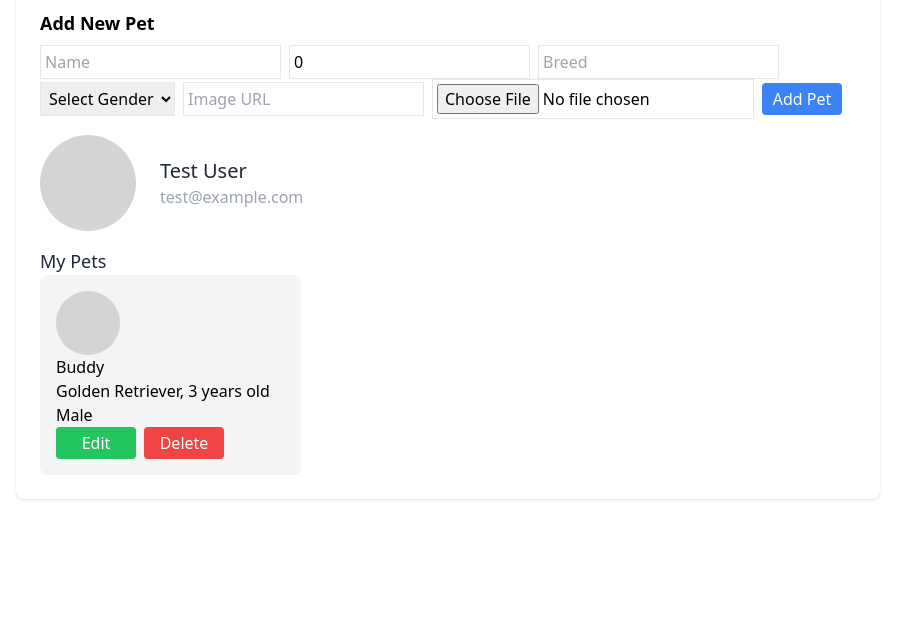
Test: ProfilePage Component › handles edit and save pet actions
Check: the text "Buddy" is shown, box [56,356,104,378]
Note: Simulate user action to edit a pet
Click the button "Edit" at (96, 443), box [56,427,136,459]
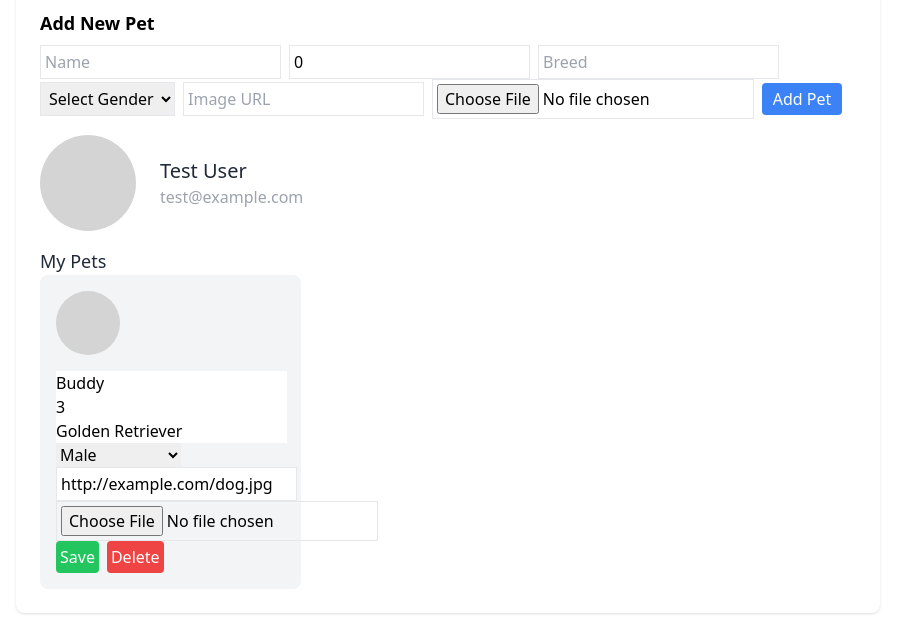
Note: Change the name in the input field and save
Type "Buddy Updated" into the field with placeholder "Name" at (160, 62), box [40,45,281,79]
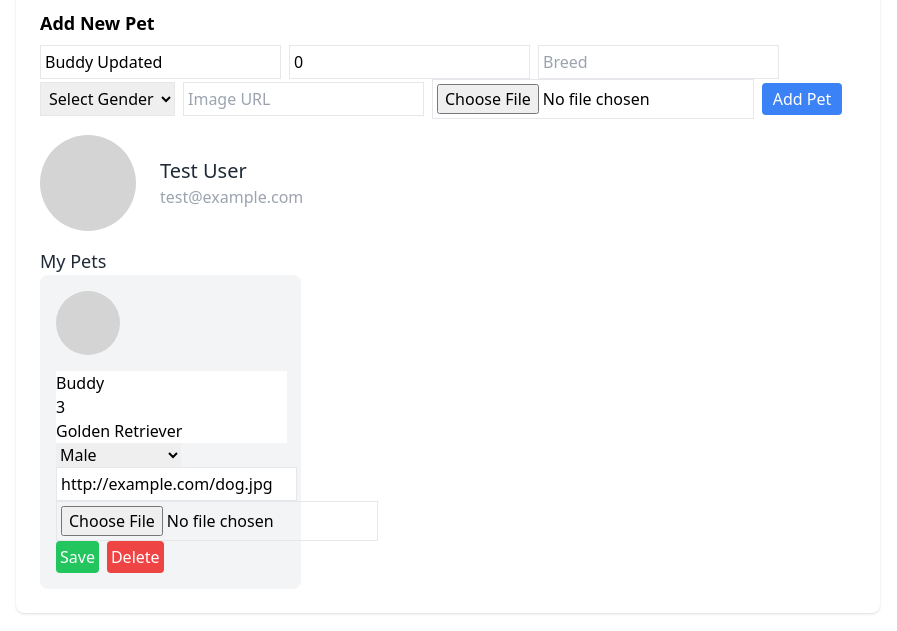
Click the button "Save" at (77, 557), box [56,541,99,573]
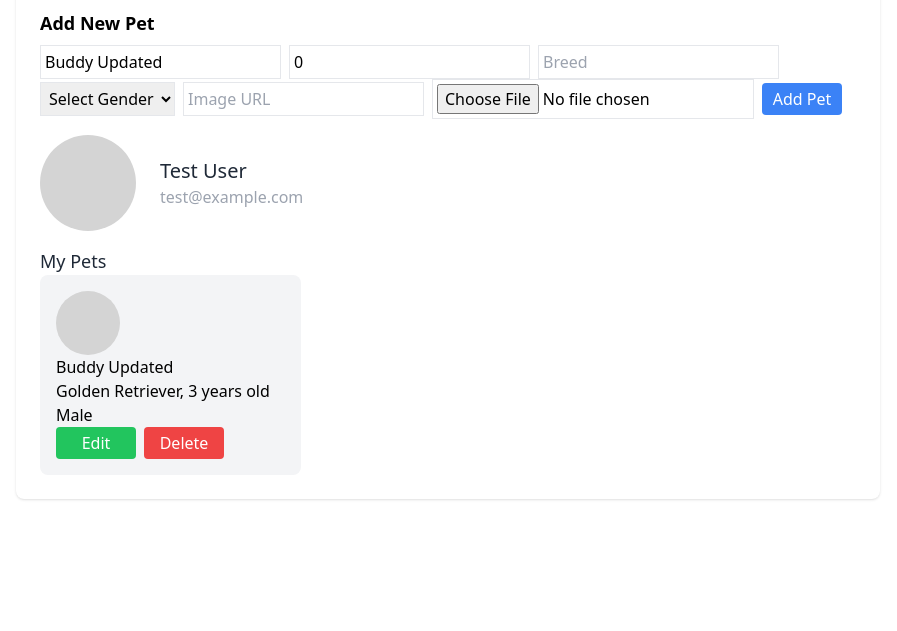
Check: the text "Buddy Updated" is shown, box [56,356,173,378]
